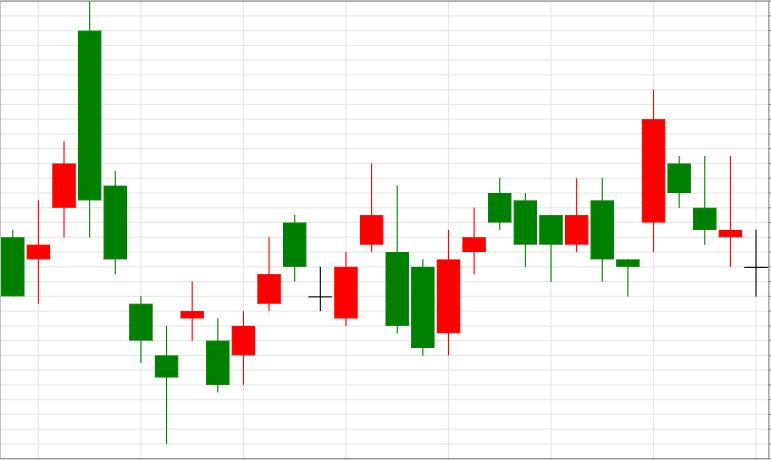morning_star_rise: (489, 90, 666, 297)
